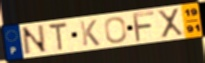F: (131, 10, 157, 44)
K: (79, 19, 102, 48)
N: (20, 24, 50, 57)
O: (104, 16, 129, 45)
T: (47, 21, 69, 52)
X: (156, 7, 185, 40)
